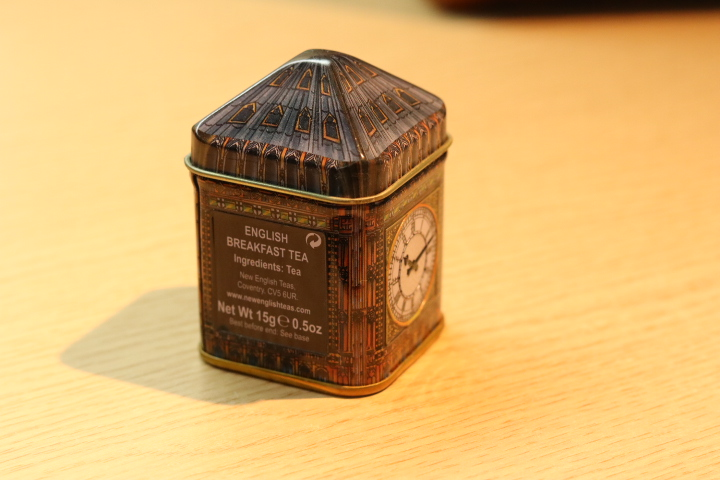Big Ben: (165, 31, 479, 410)
